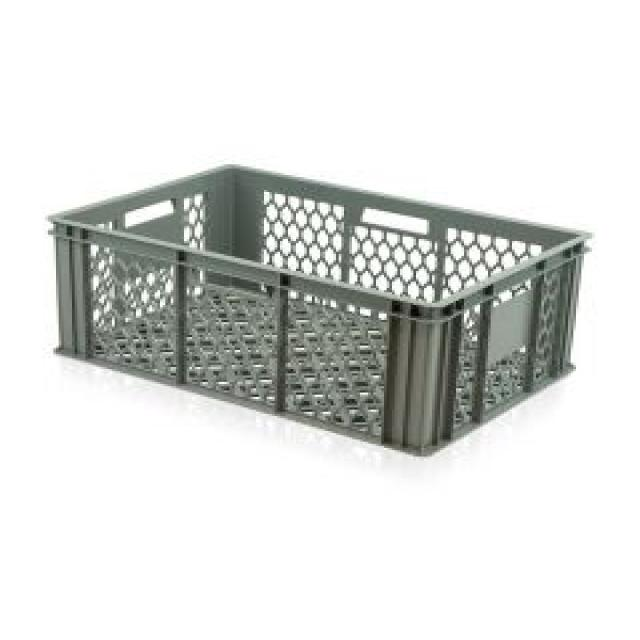basket: (20, 132, 599, 480)
